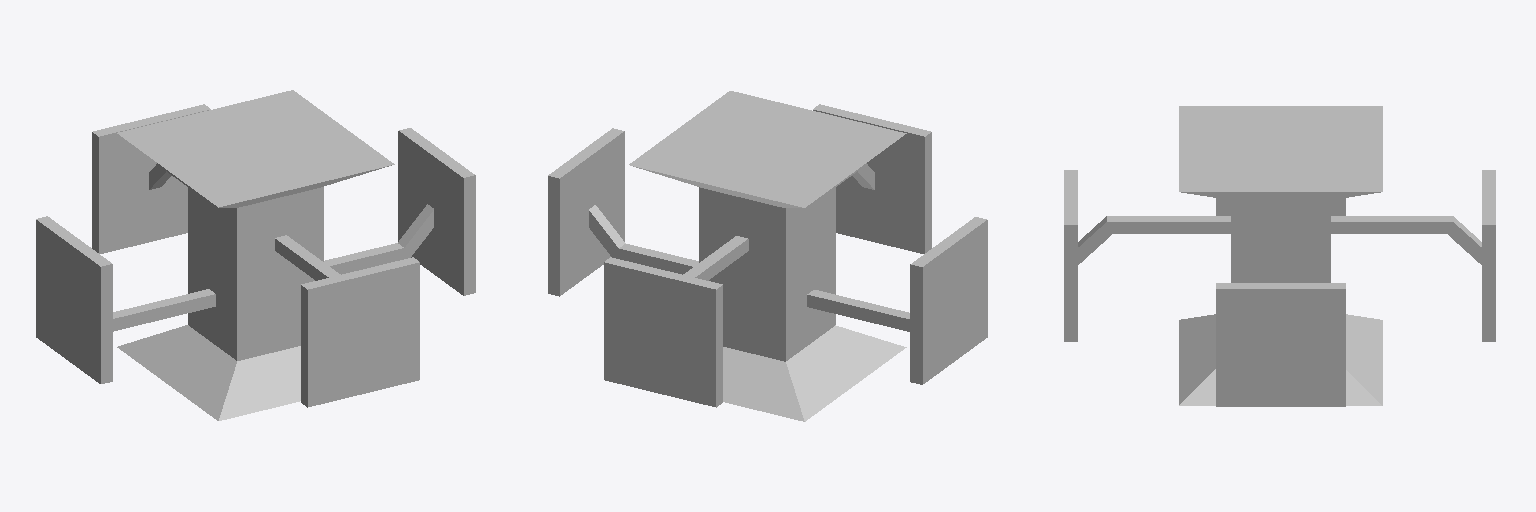
The model's file is ProjectorV2LemBase2.obj.
3 views of the same model, side by side, from view 1: azimuth 30°, elevation 25°; view 2: azimuth 150°, elevation 25°; view 3: azimuth 270°, elevation 25° (orthographic).
Parts seen in each view (by area): view 1: ProjectorFront_Projector1_PyramidF, Core_Core_(data), SupportLeft_SupportL_Leg3, SupportBottom_SupportB_Leg1, SupportTop_SupportT_Leg, ProjectorBack_Projector2_PyramidB, SupportRight_SupportR_Leg2; view 2: ProjectorFront_Projector1_PyramidF, Core_Core_(data), SupportRight_SupportR_Leg2, SupportBottom_SupportB_Leg1, SupportTop_SupportT_Leg, SupportLeft_SupportL_Leg3, ProjectorBack_Projector2_PyramidB; view 3: ProjectorFront_Projector1_PyramidF, SupportTop_SupportT_Leg, Core_Core_(data), ProjectorBack_Projector2_PyramidB, SupportLeft_SupportL_Leg3, SupportRight_SupportR_Leg2.
Part boxes in pixels (left/top/right/bottom): ProjectorFront_Projector1_PyramidF: left=117, top=90, right=394, bottom=207; Core_Core_(data): left=188, top=186, right=323, bottom=360; SupportLeft_SupportL_Leg3: left=275, top=235, right=419, bottom=407; SupportBottom_SupportB_Leg1: left=36, top=216, right=215, bottom=383; SupportTop_SupportT_Leg: left=324, top=128, right=475, bottom=295; ProjectorBack_Projector2_PyramidB: left=117, top=325, right=300, bottom=420; SupportRight_SupportR_Leg2: left=92, top=104, right=210, bottom=253; ProjectorFront_Projector1_PyramidF: left=629, top=91, right=906, bottom=207; Core_Core_(data): left=699, top=186, right=835, bottom=361; SupportRight_SupportR_Leg2: left=604, top=236, right=748, bottom=407; SupportBottom_SupportB_Leg1: left=807, top=217, right=987, bottom=384; SupportTop_SupportT_Leg: left=548, top=128, right=698, bottom=296; SupportLeft_SupportL_Leg3: left=813, top=104, right=931, bottom=253; ProjectorBack_Projector2_PyramidB: left=723, top=325, right=906, bottom=421; ProjectorFront_Projector1_PyramidF: left=1179, top=106, right=1382, bottom=200; SupportTop_SupportT_Leg: left=1216, top=283, right=1345, bottom=406; Core_Core_(data): left=1231, top=200, right=1330, bottom=282; ProjectorBack_Projector2_PyramidB: left=1179, top=314, right=1382, bottom=405; SupportLeft_SupportL_Leg3: left=1064, top=170, right=1230, bottom=341; SupportRight_SupportR_Leg2: left=1331, top=170, right=1495, bottom=341.
Size of the model in its own units: 0.9978 by 0.544 by 0.9951.